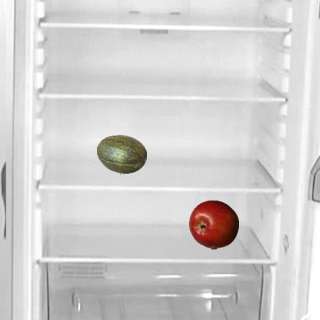Apple Braeburn: (188, 199, 238, 249)
Melon Piel de Sapo: (96, 129, 146, 179)
